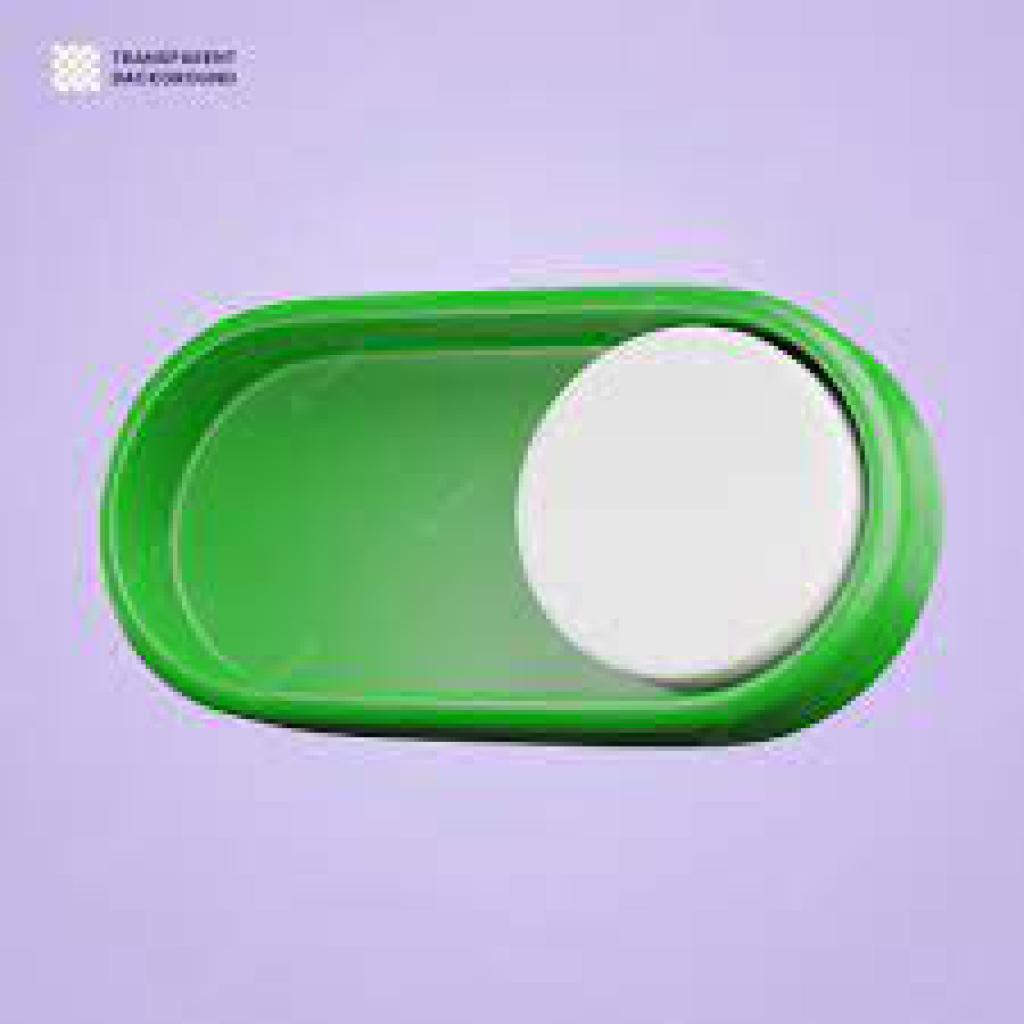switch: (110, 275, 945, 747)
